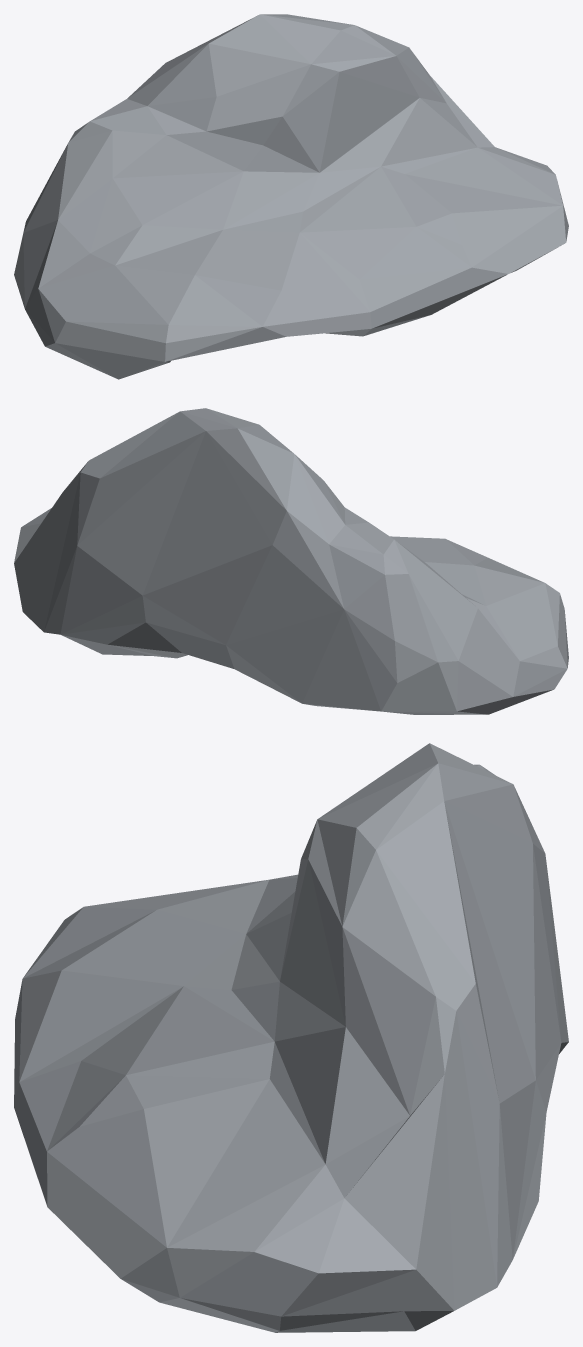
File: SM_Env_Snow_Mound_01.fbx
The picture shows the model from 3 angles, top to bottom: view 1: azimuth 30°, elevation 25°; view 2: azimuth 150°, elevation 25°; view 3: azimuth 270°, elevation 25°; orthographic projection. The views are drawn at different scales.
Visible parts, largest first — view 1: SM_Env_Snow_Mound_01; view 2: SM_Env_Snow_Mound_01; view 3: SM_Env_Snow_Mound_01.
Part boxes in pixels (bbox=[...]): SM_Env_Snow_Mound_01: bbox=[14, 14, 568, 379]; SM_Env_Snow_Mound_01: bbox=[14, 408, 568, 714]; SM_Env_Snow_Mound_01: bbox=[14, 743, 568, 1332].
Bounding box in the file's own units: 178 × 84.63 × 99.8.
1 material, 1 textured.
